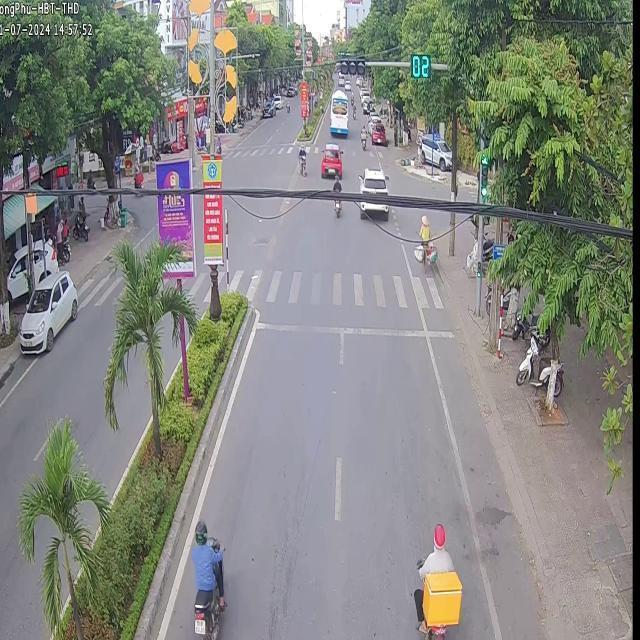car: (18, 269, 76, 351), (328, 87, 347, 132), (357, 167, 387, 194), (319, 140, 340, 175), (358, 200, 387, 218)
green_light: (410, 54, 429, 77), (480, 154, 488, 196)
motobike: (189, 518, 224, 637), (417, 522, 452, 580), (412, 587, 443, 637)
stop_line: (258, 320, 454, 343)
